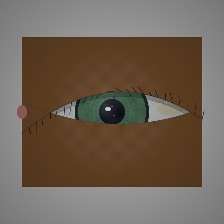pinguecula_lesion: (144, 88, 196, 130)
